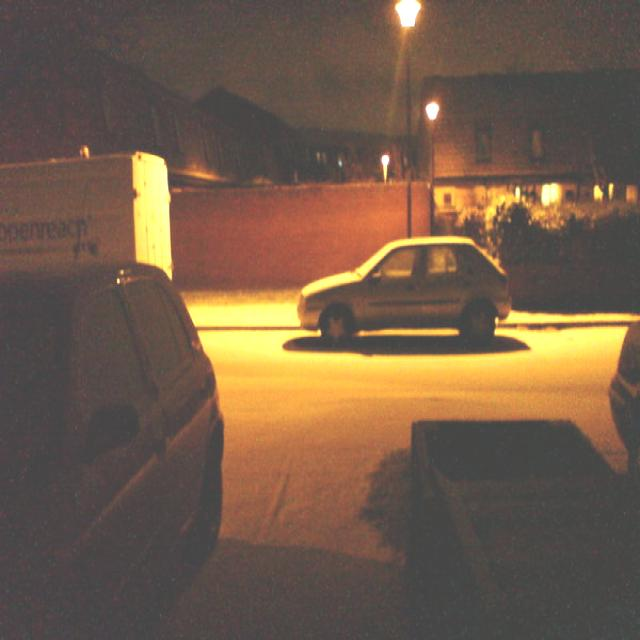Car: (1, 270, 229, 640), (295, 234, 510, 351)
